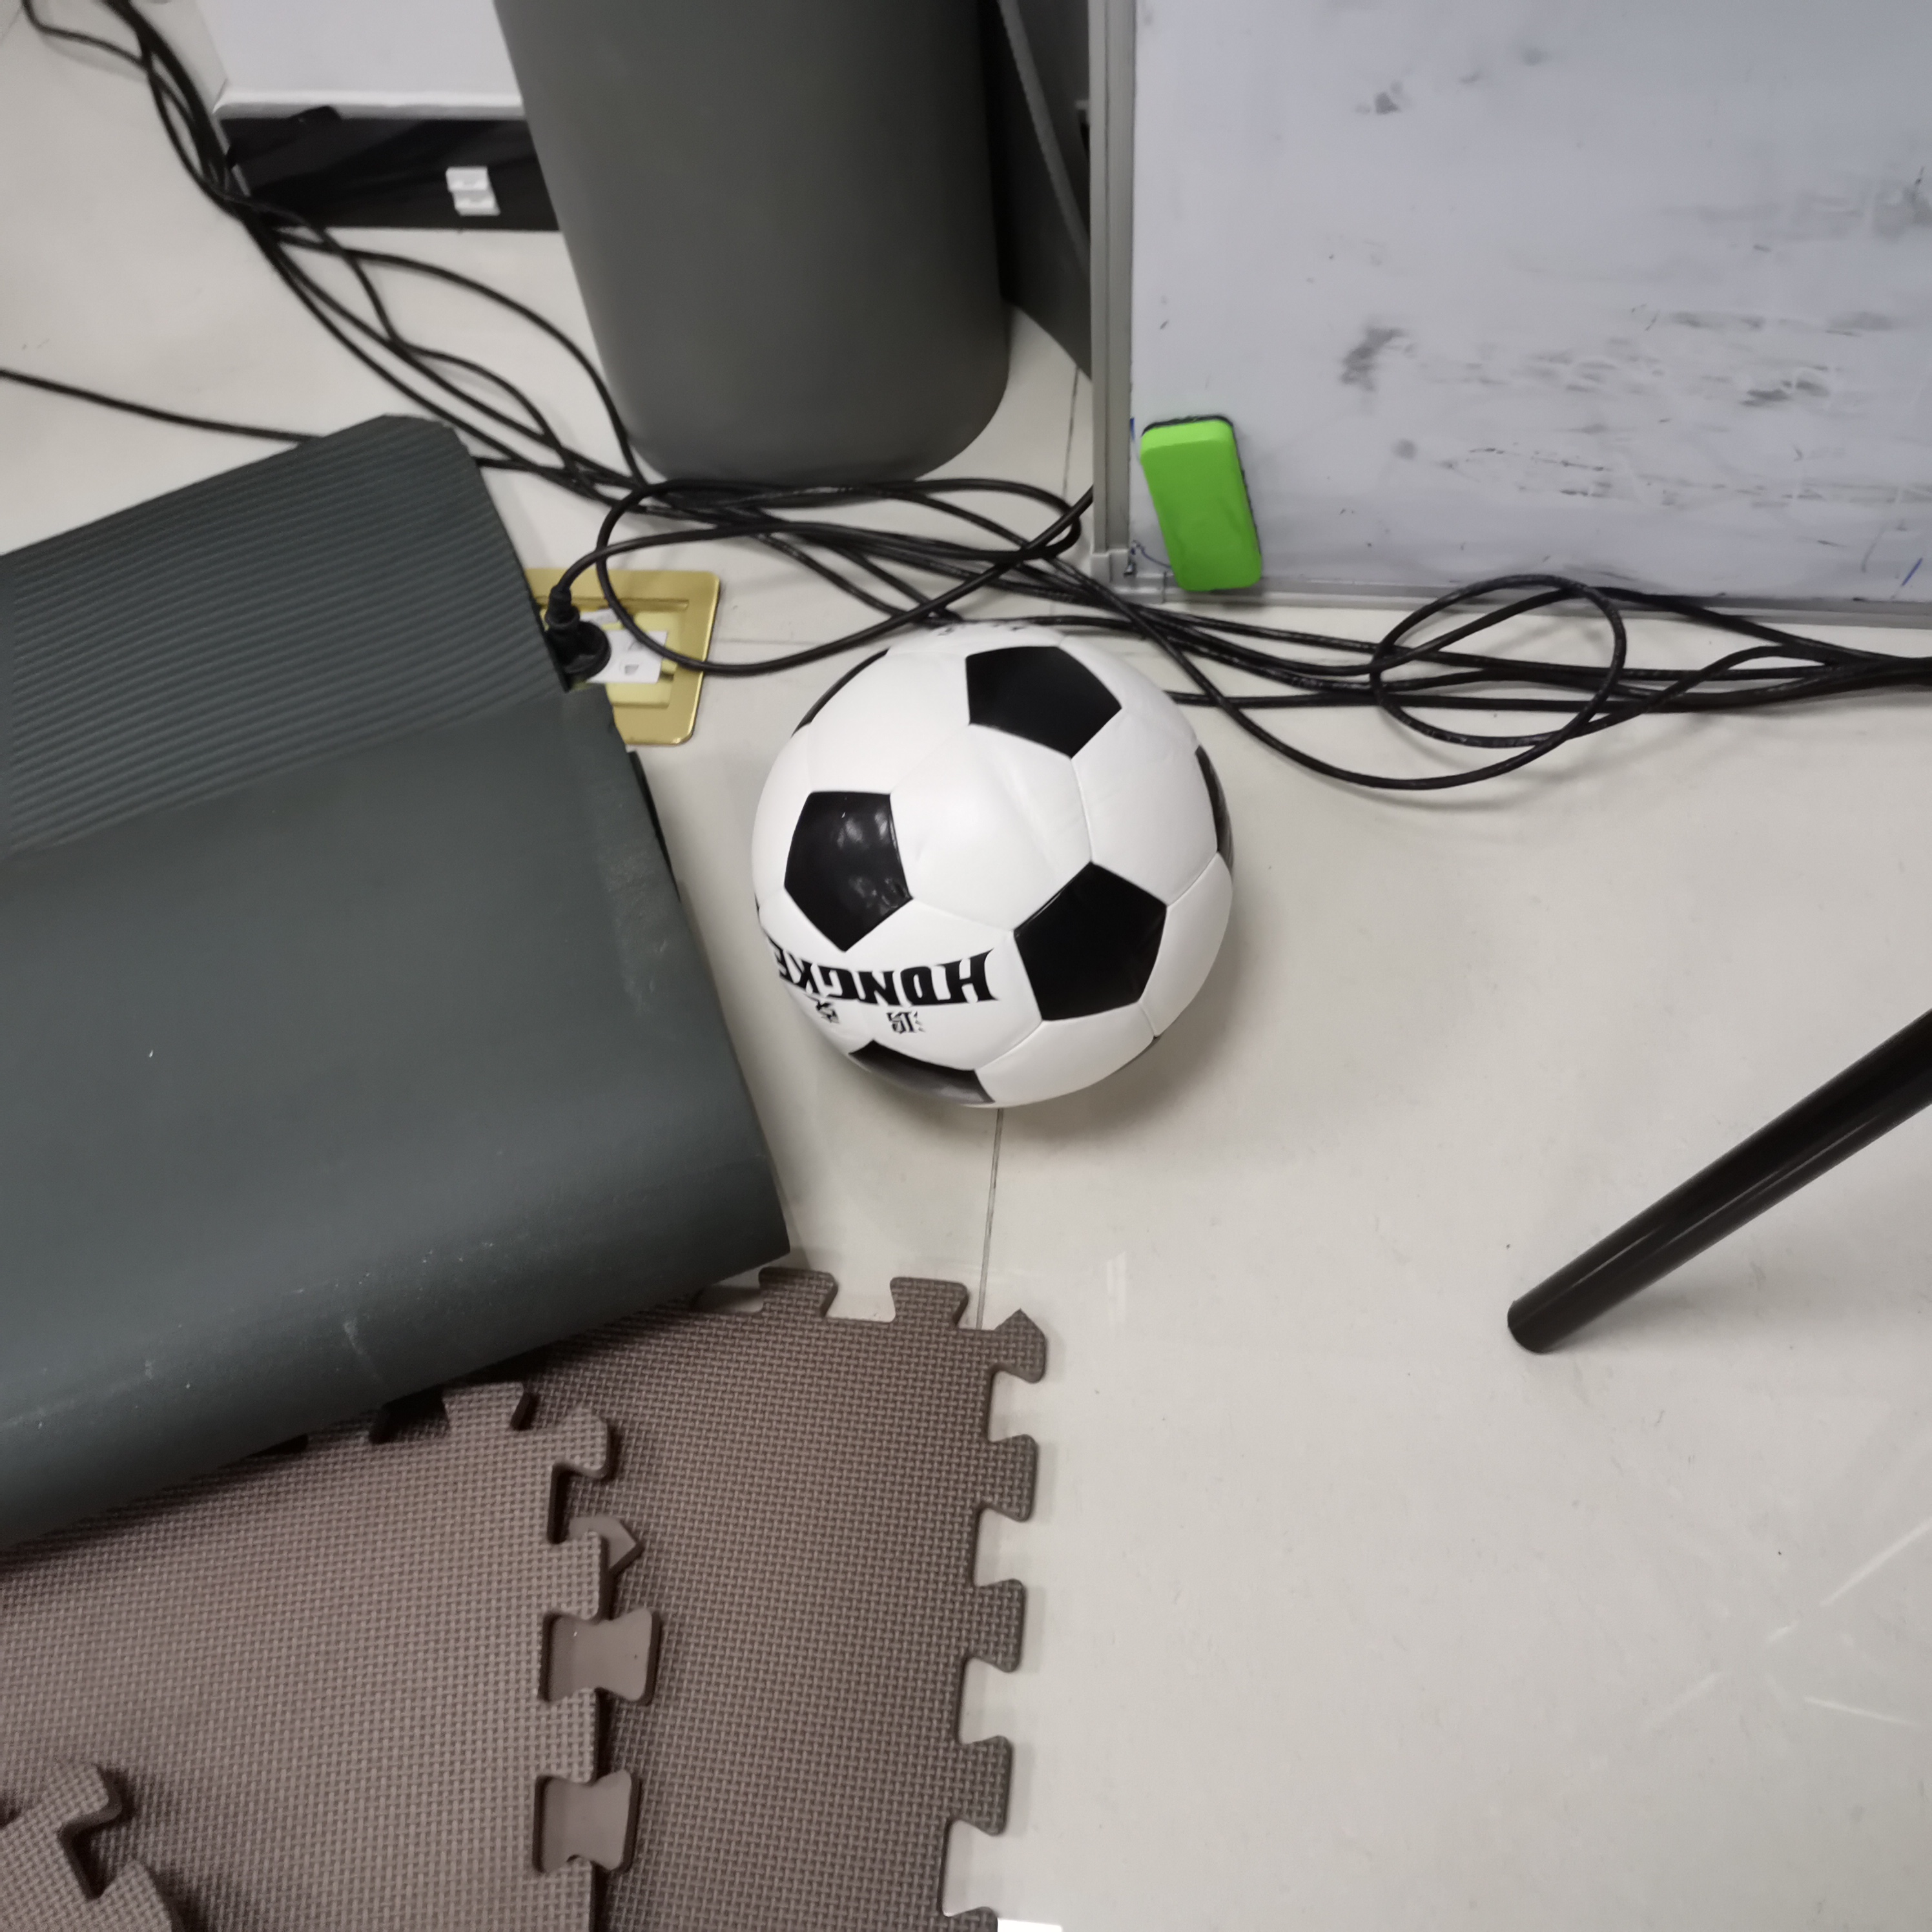football: (745, 623, 1247, 1115)
